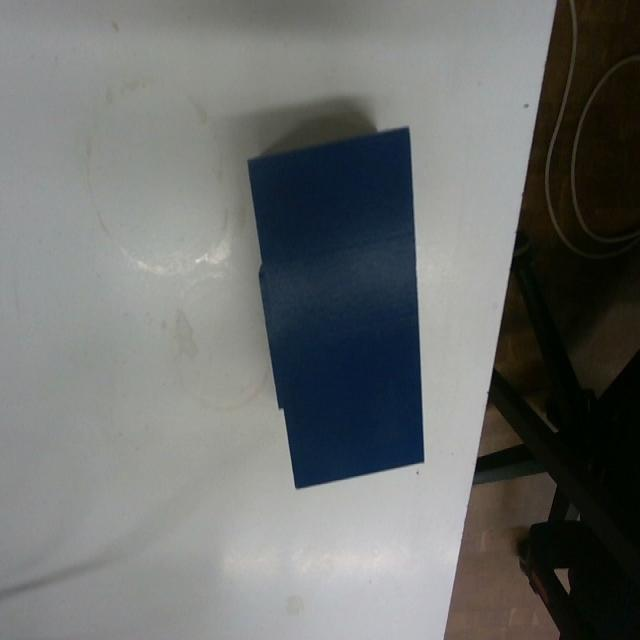Blue Cuboid: (245, 122, 427, 490)
